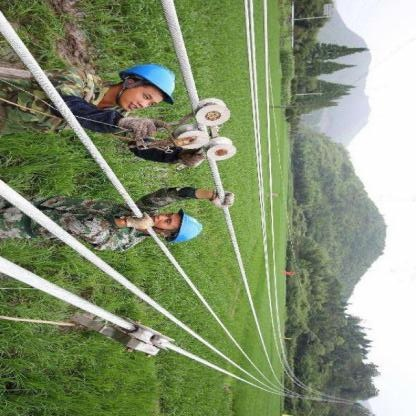blue: (115, 60, 182, 107), (165, 207, 210, 256)
